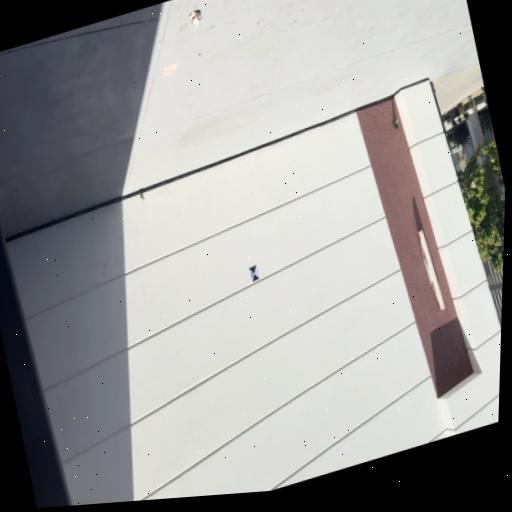target7: (249, 265, 260, 282)
